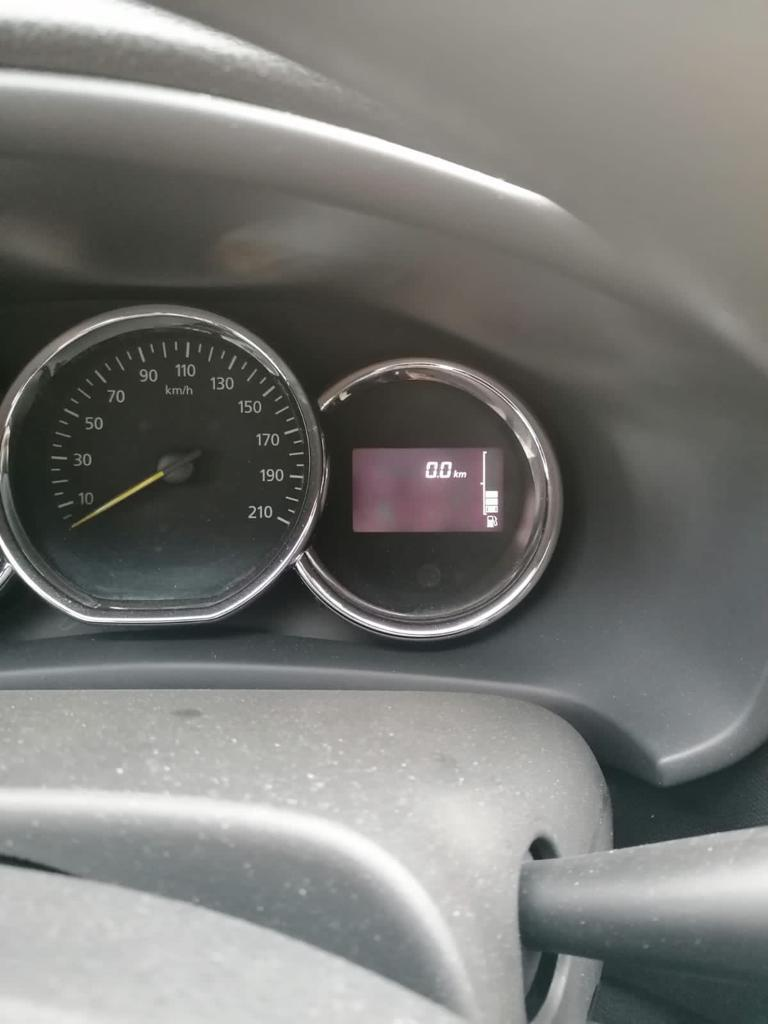,: (436, 474, 439, 480)
0: (424, 459, 437, 478), (440, 460, 451, 478)
X: (459, 471, 467, 479), (453, 469, 458, 479)
odometer: (350, 445, 506, 535)
